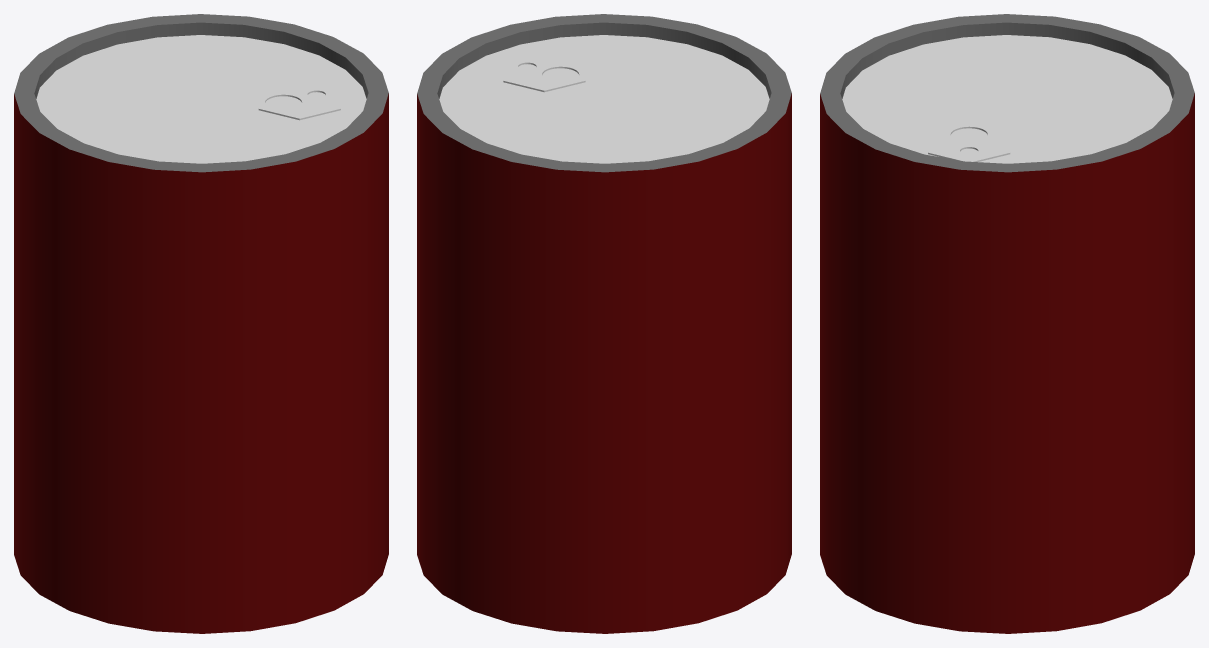
File: Food.fbx
3 renders of one model, left to right at view 1: azimuth 30°, elevation 25°; view 2: azimuth 150°, elevation 25°; view 3: azimuth 270°, elevation 25°, orthographic.
Visible parts, largest first — view 1: Model; view 2: Model; view 3: Model.
Part boxes in pixels (bbox=[...]): Model: bbox=[14, 14, 388, 633]; Model: bbox=[417, 14, 791, 633]; Model: bbox=[820, 14, 1194, 633].
Size of the model in its own units: 13.75 by 18.69 by 13.75.
